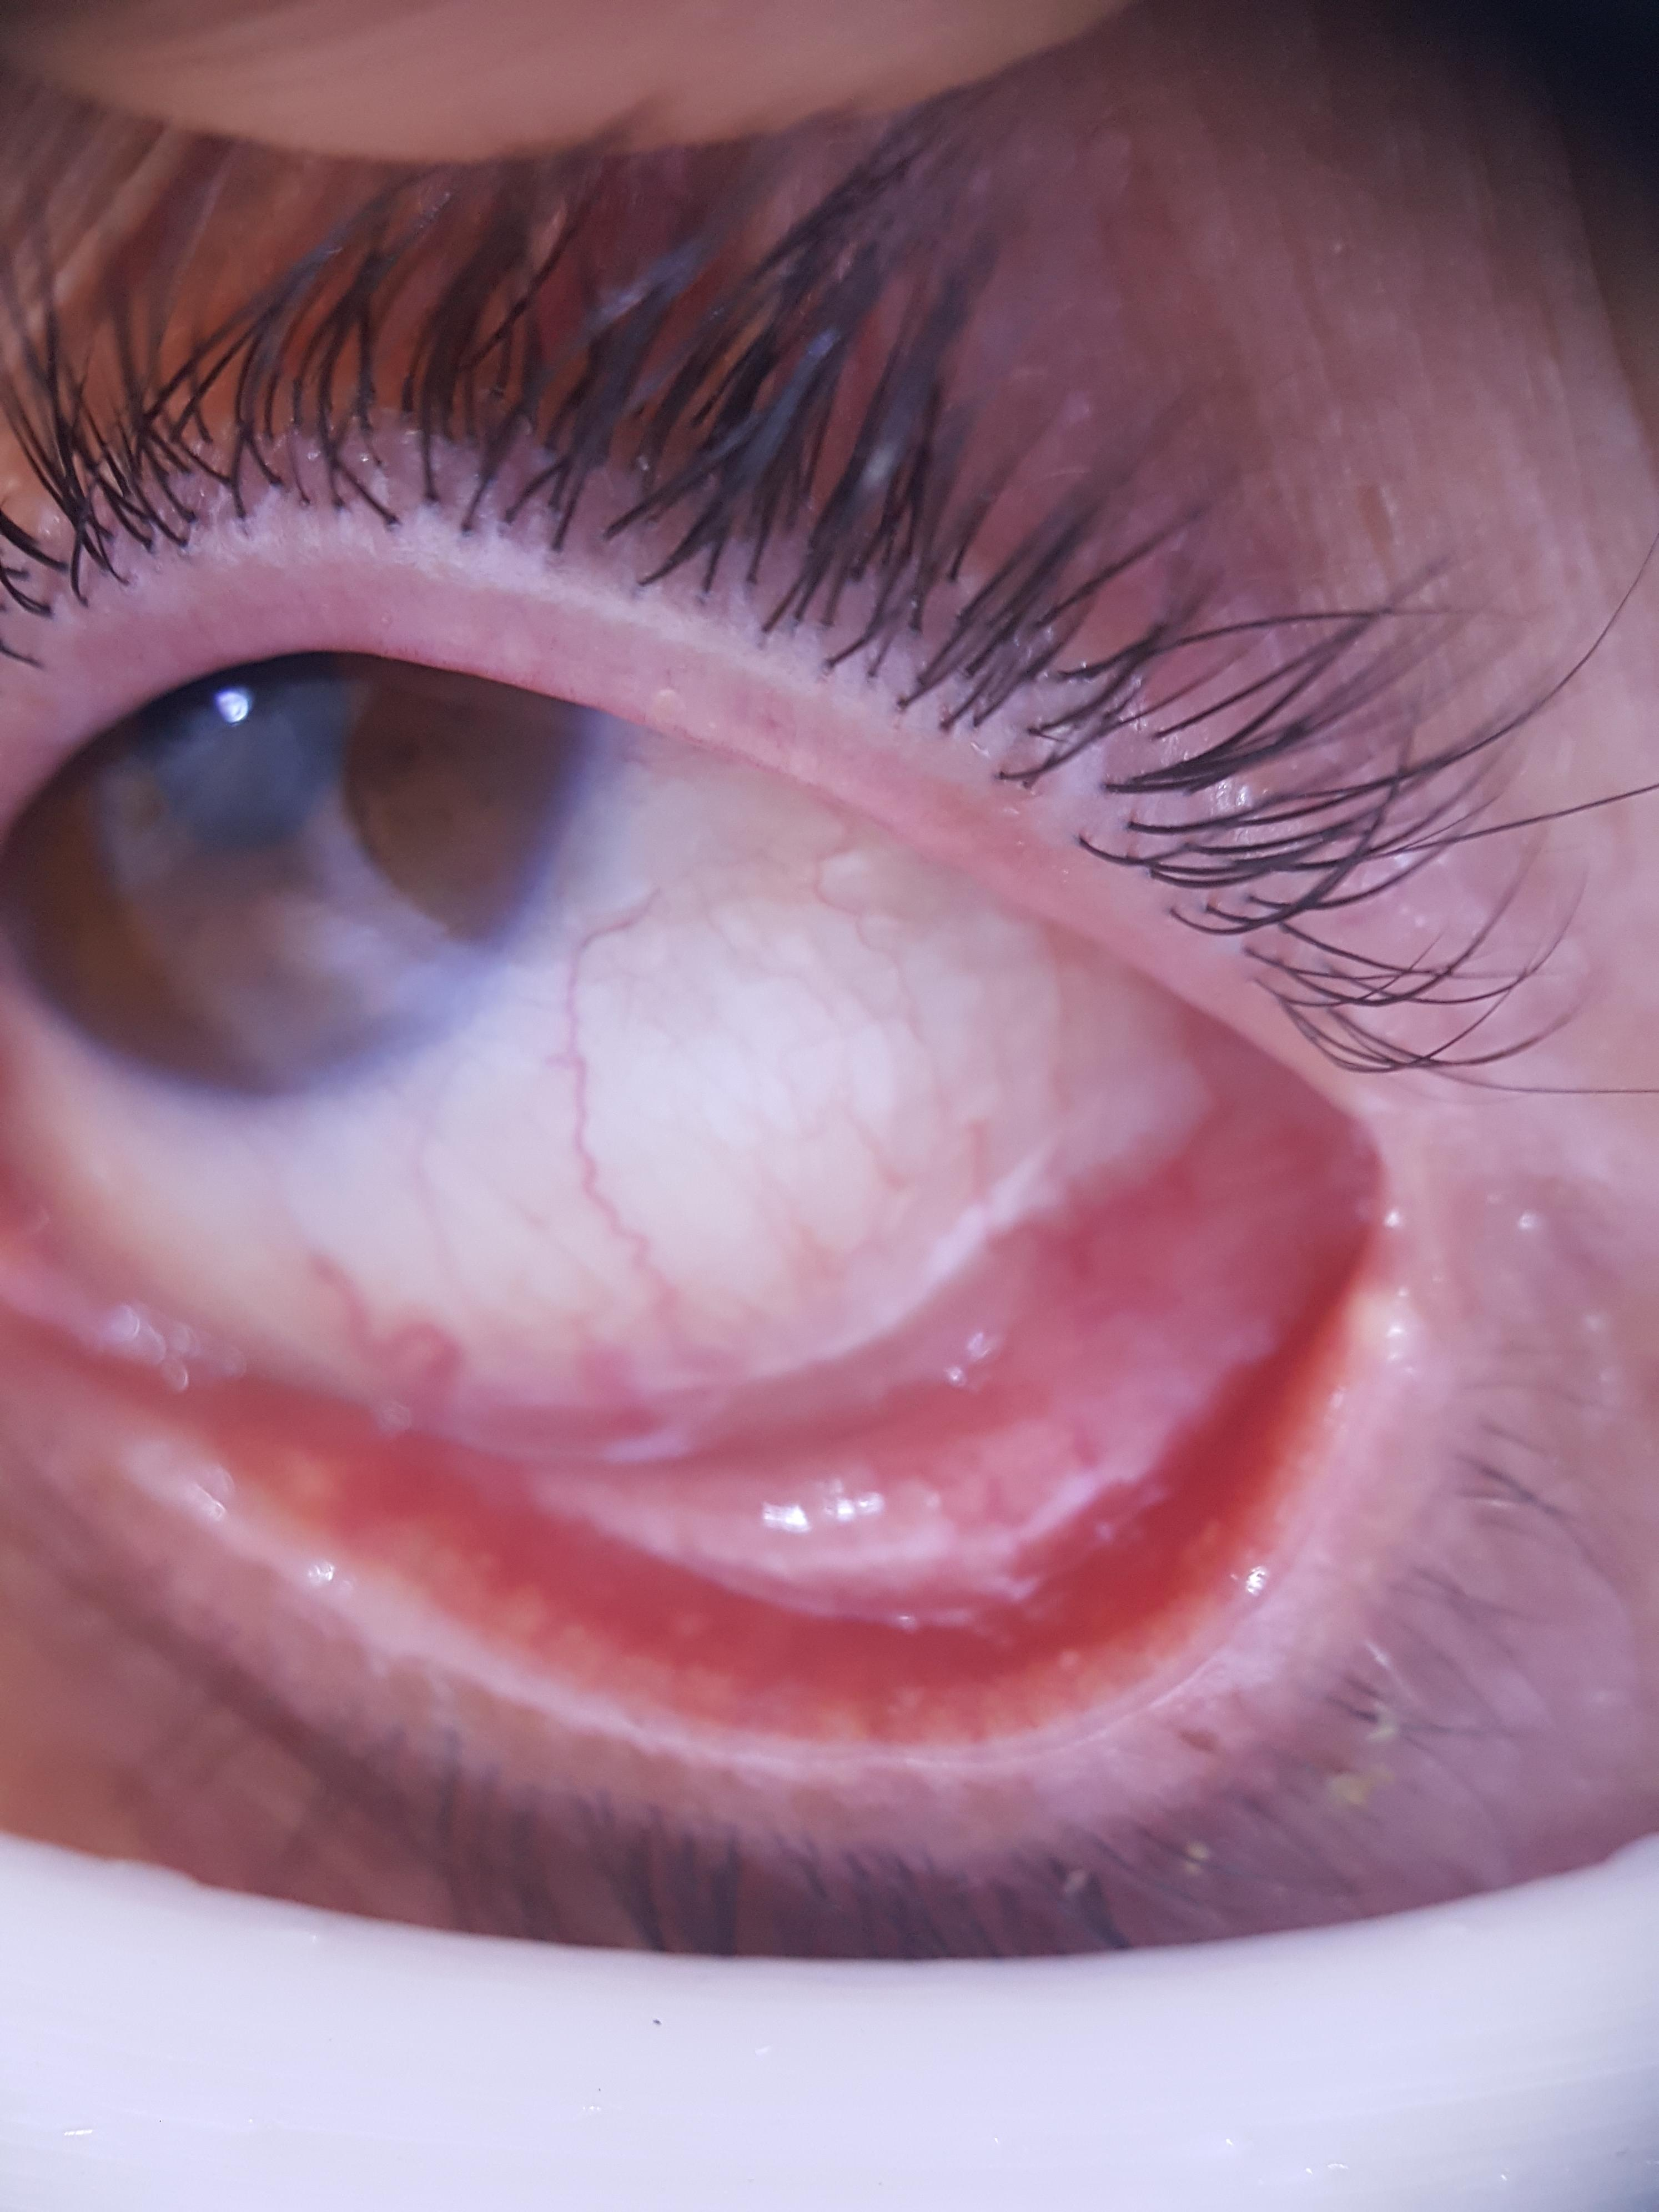forniceal: (420, 1104, 1335, 1627)
forniceal_palpebral: (220, 1089, 1358, 1749)
palpebral: (220, 1244, 1340, 1738)
